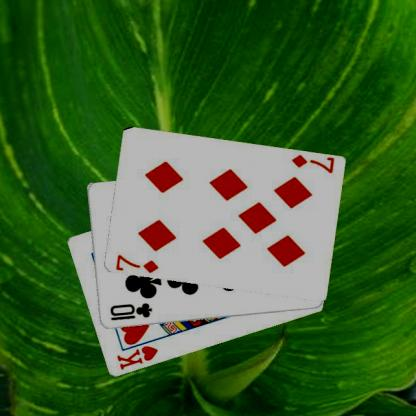10C: (107, 301, 153, 322)
7D: (288, 153, 335, 175), (113, 252, 159, 274)
KH: (114, 343, 159, 371)
